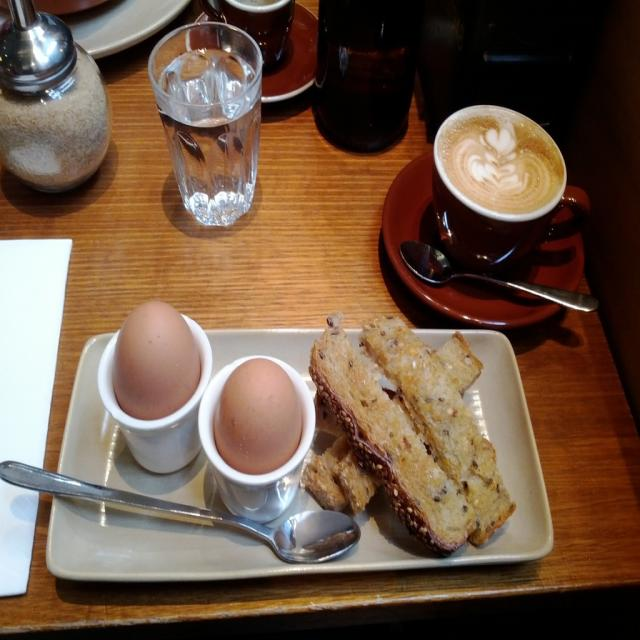non-organic waste: (44, 313, 565, 585)
